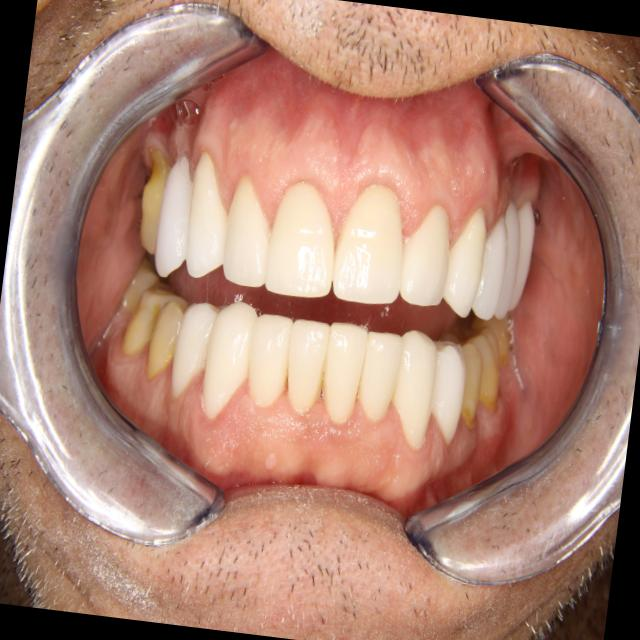tooth: (324, 172, 417, 313), (261, 171, 344, 305), (176, 143, 243, 288), (211, 163, 284, 296), (196, 287, 263, 429), (387, 194, 460, 313), (163, 292, 237, 408), (385, 322, 445, 454), (434, 193, 494, 324), (112, 273, 191, 369), (313, 316, 376, 435), (148, 146, 202, 283), (240, 303, 303, 417), (277, 310, 337, 424), (129, 137, 181, 265), (418, 330, 473, 451), (465, 201, 515, 326), (351, 320, 409, 427), (499, 187, 542, 321), (488, 190, 529, 327), (139, 293, 198, 388), (455, 321, 510, 417), (450, 336, 489, 435), (114, 247, 163, 319), (465, 304, 518, 365)
